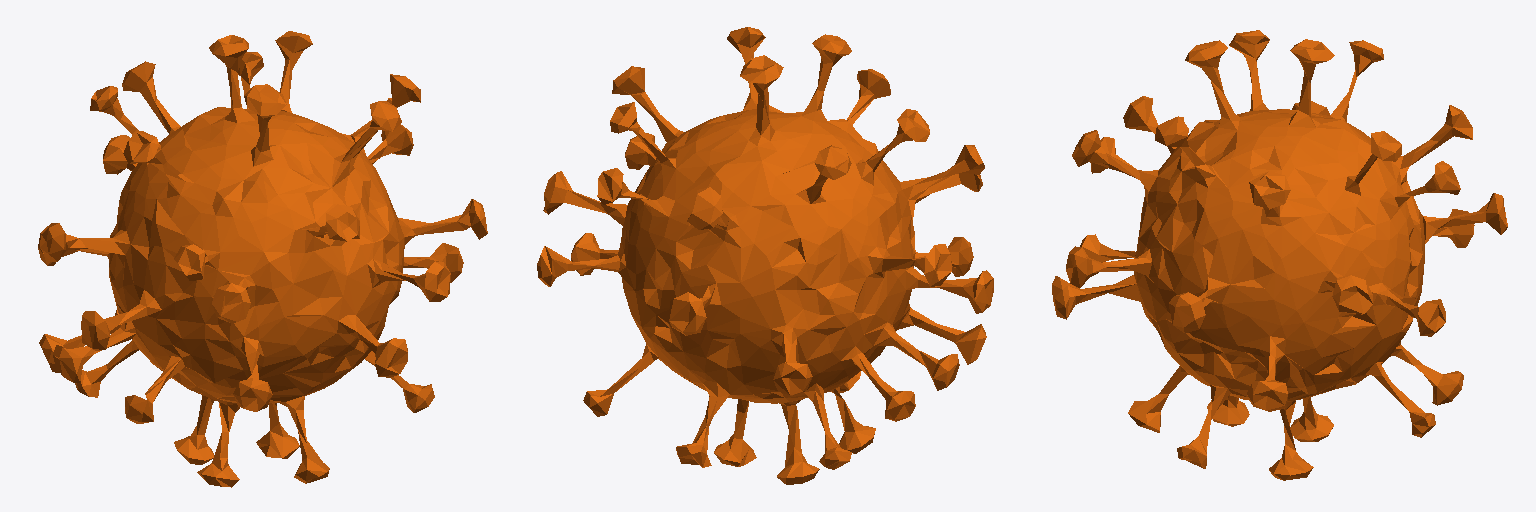
3 views of the same model, side by side, from view 1: azimuth 30°, elevation 25°; view 2: azimuth 150°, elevation 25°; view 3: azimuth 270°, elevation 25° (orthographic).
Parts seen in each view (by area): view 1: VRayProxy008; view 2: VRayProxy008; view 3: VRayProxy008.
Part boxes in pixels (x1,y1,x2,y2): VRayProxy008: (38,31,487,487); VRayProxy008: (537,27,993,484); VRayProxy008: (1052,30,1507,480).
Bounding box in the file's own units: 16.94 × 17.17 × 17.05.